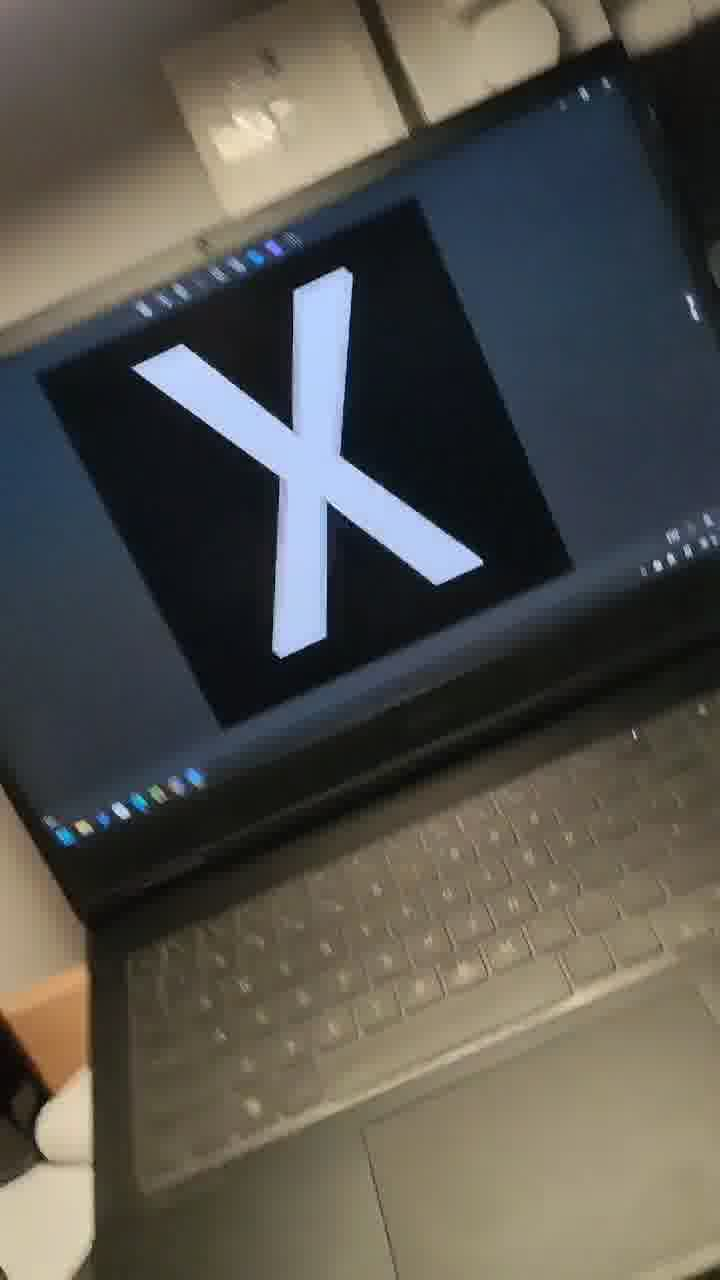X: (102, 171, 508, 699)
